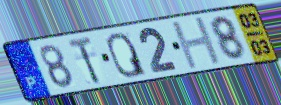2: (139, 25, 180, 76)
8: (208, 14, 248, 61), (39, 42, 74, 90)
H: (169, 15, 225, 72)
Q: (105, 31, 149, 79)
T: (66, 34, 103, 87)
